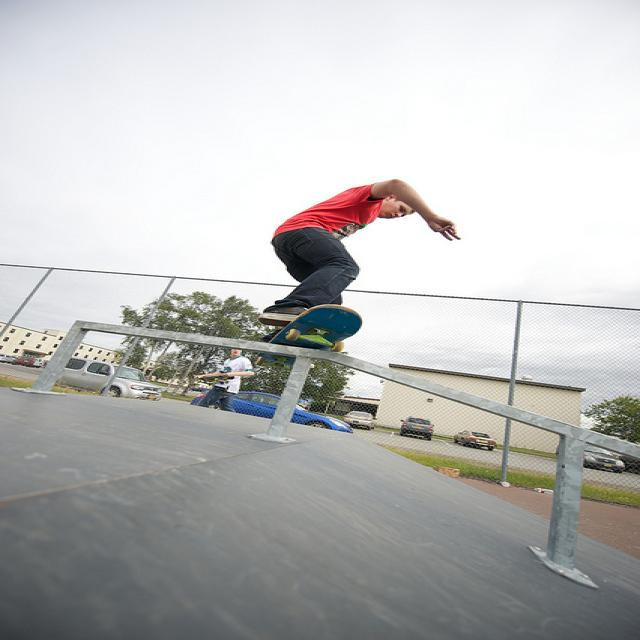Vehicle: (192, 392, 353, 434), (55, 356, 164, 402), (581, 443, 627, 472), (453, 430, 497, 451), (399, 417, 434, 439), (342, 410, 378, 430), (12, 355, 36, 367), (192, 383, 210, 392), (0, 354, 16, 363)
